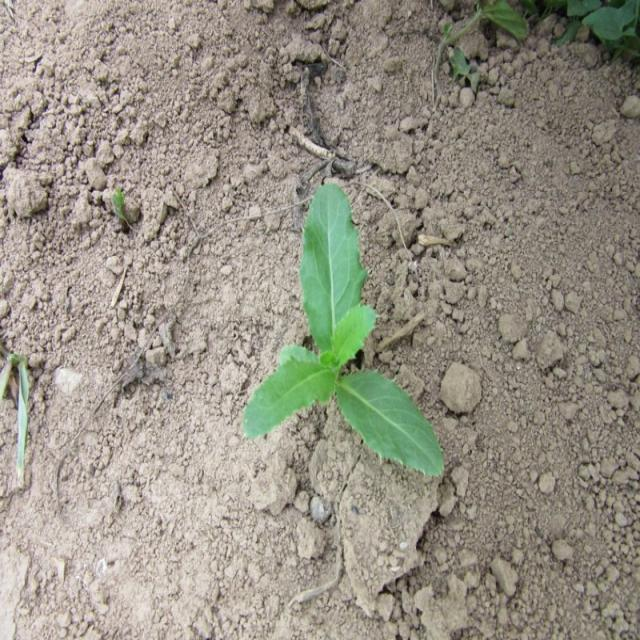field_thistle: (187, 182, 453, 516)
